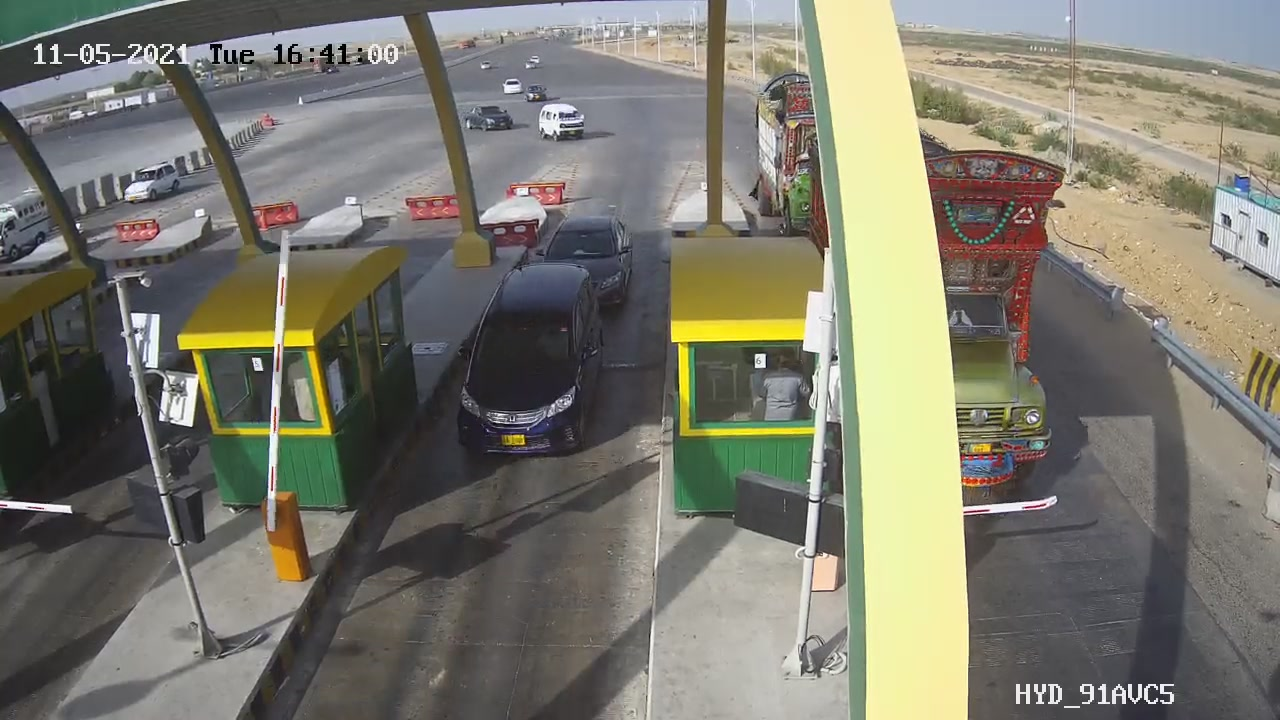F1: (441, 249, 620, 472)
